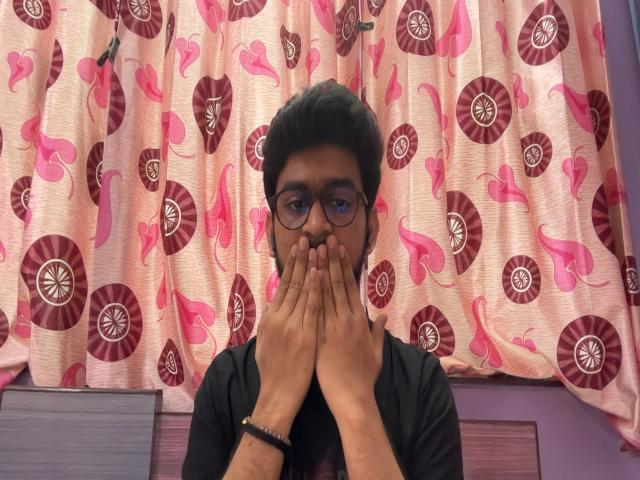Thanks: (250, 232, 394, 417)
